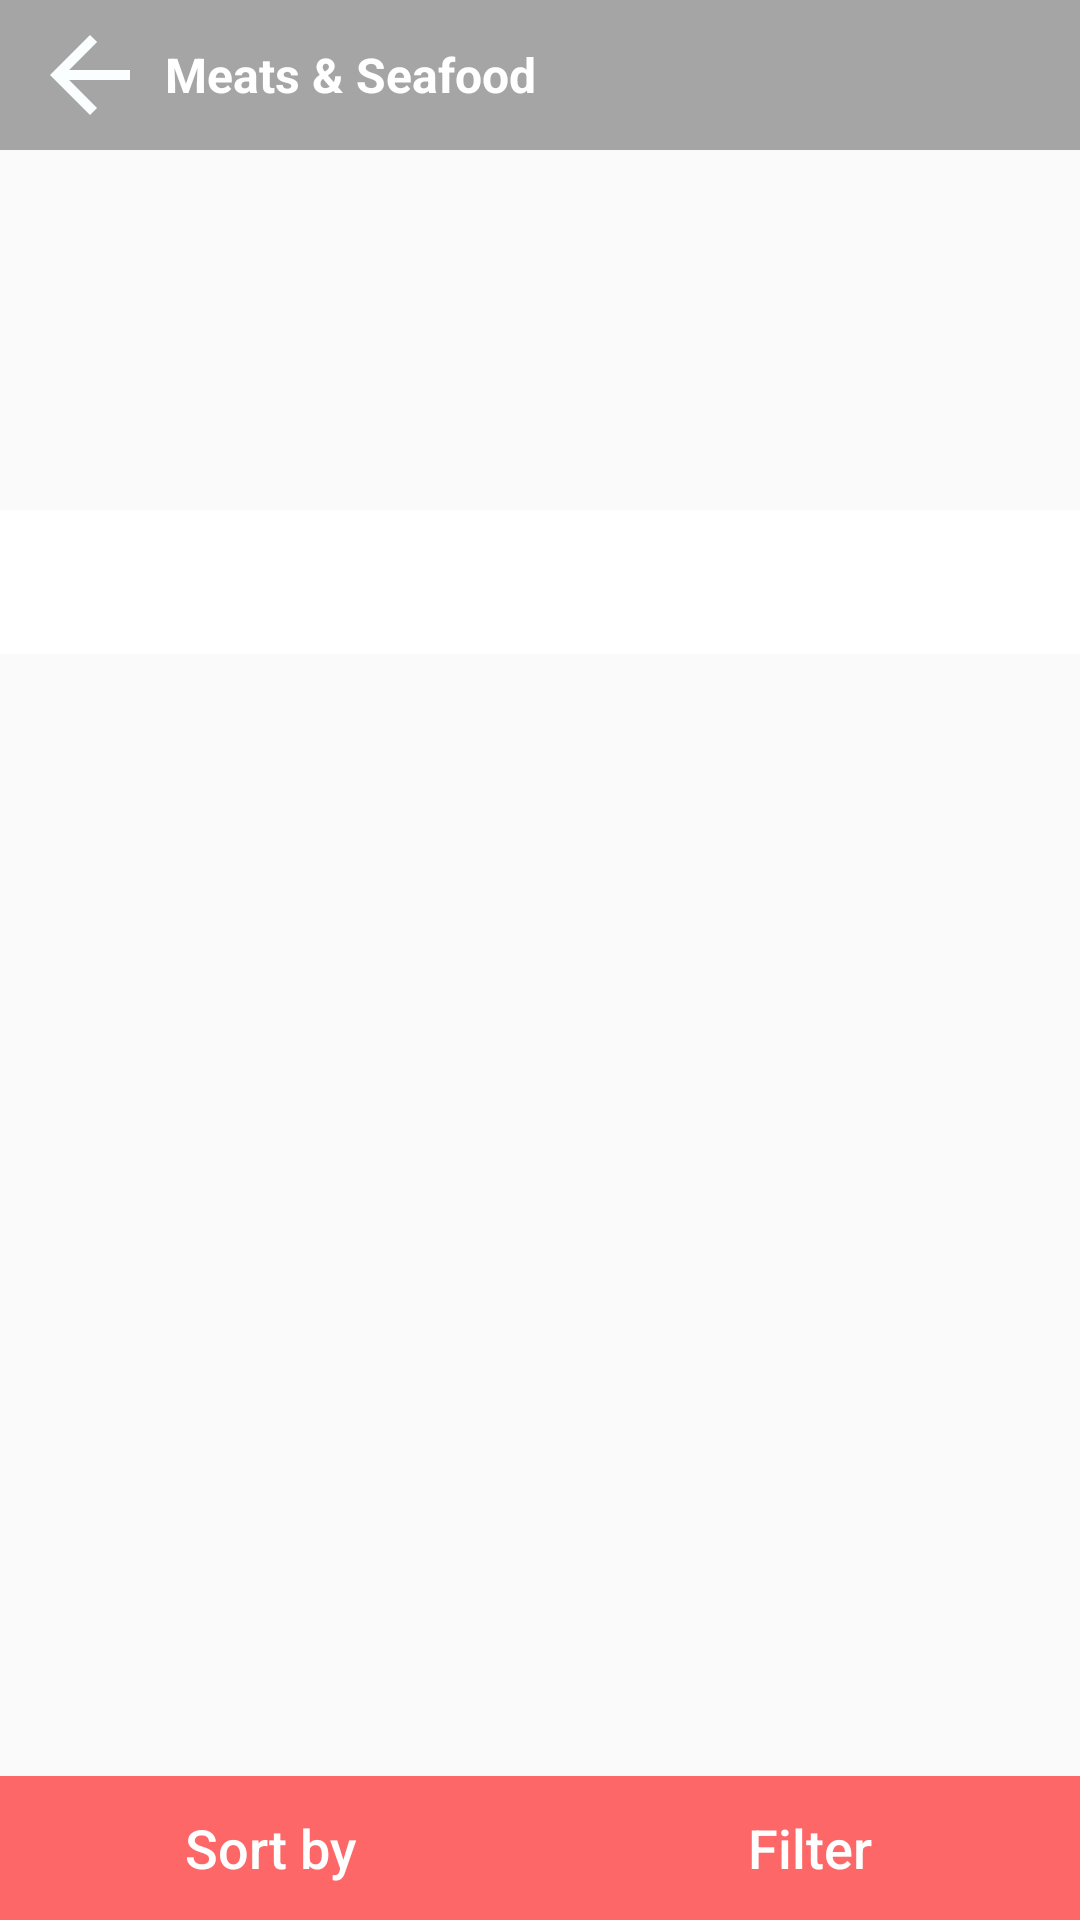

Named icons in this screenshot (1080 x 1920) and their centers, [x,y]:
arrow back: [90,75]
